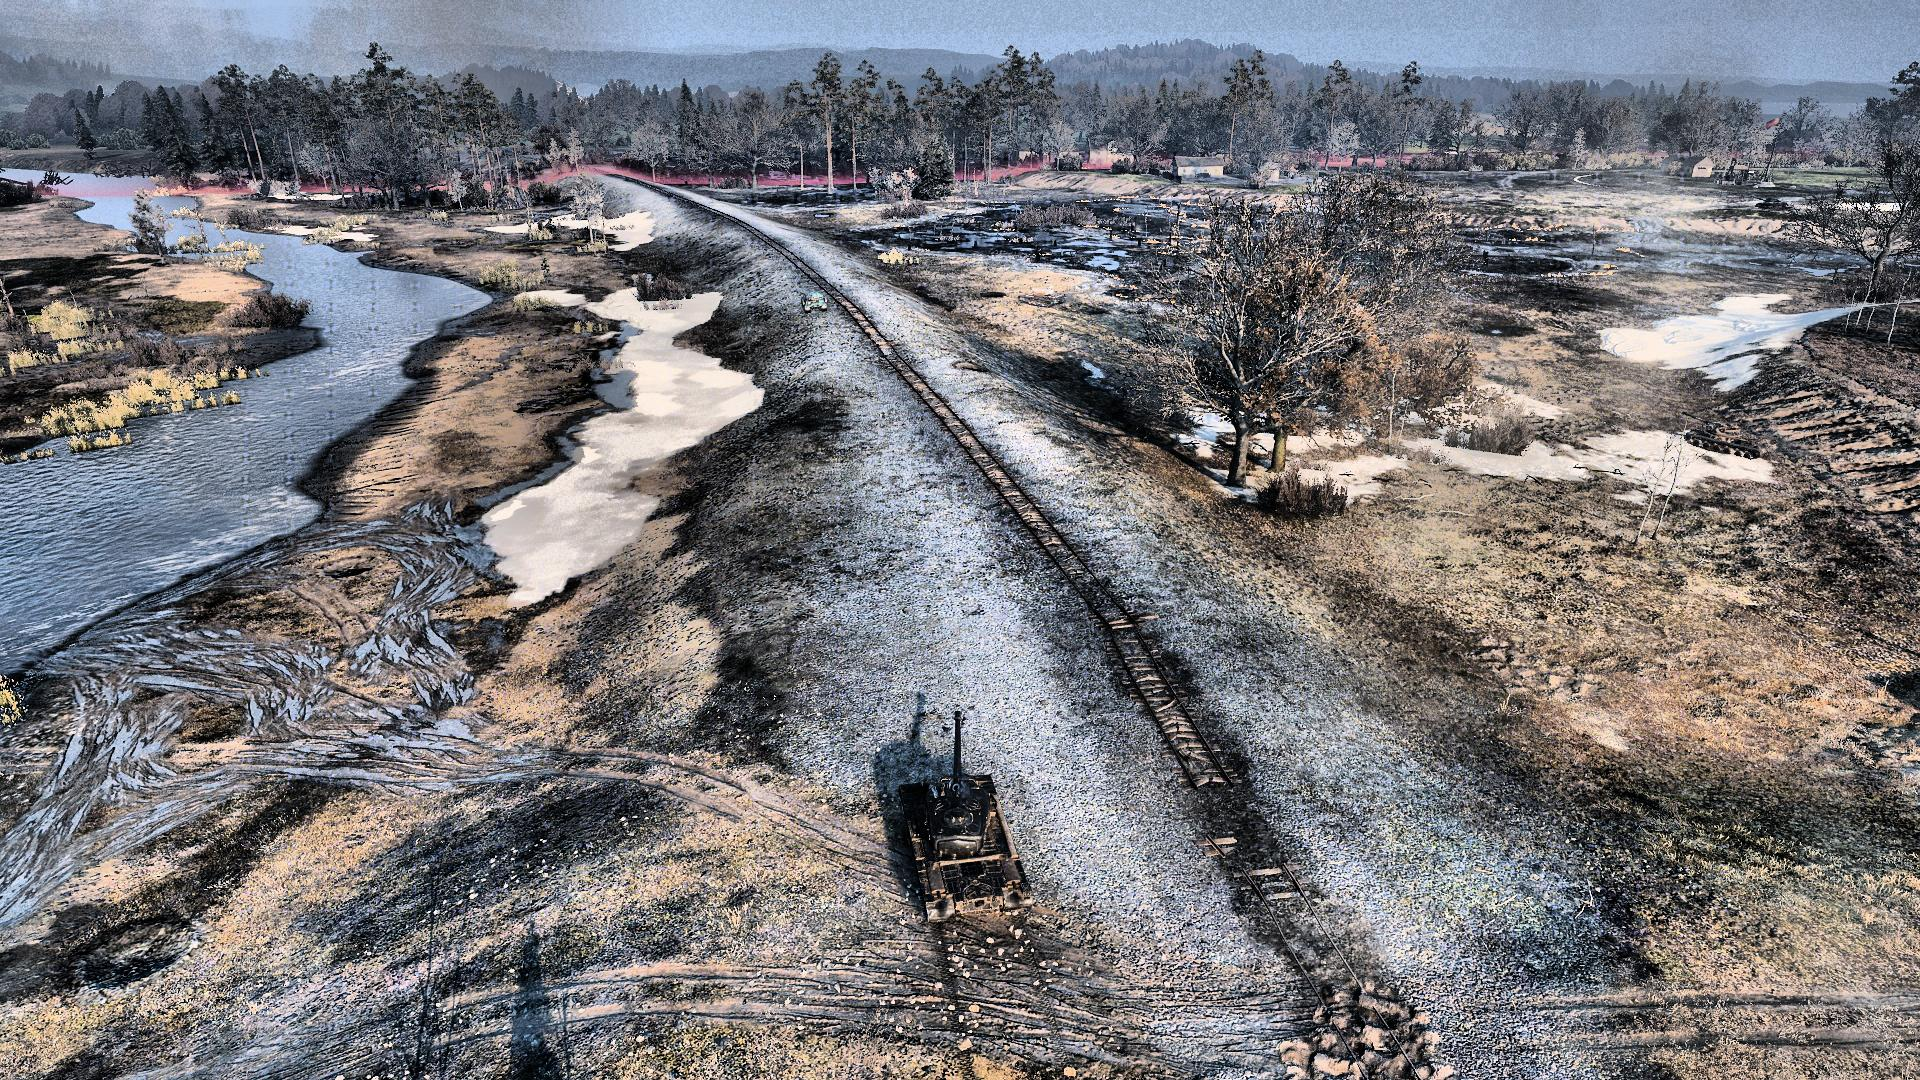military-vehicle: (893, 708, 1029, 923)
